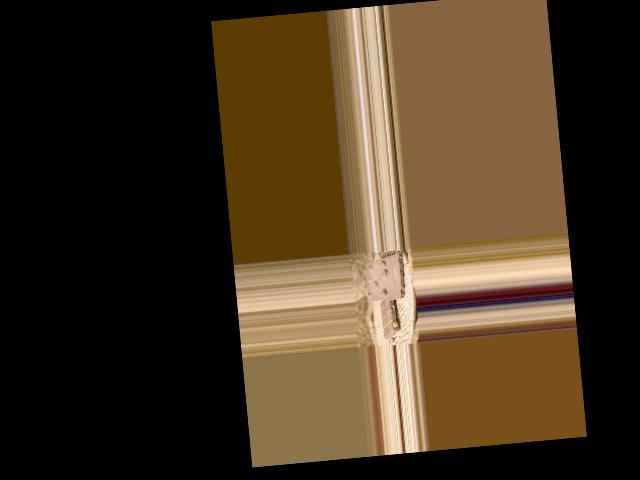chocolate: (362, 252, 406, 305)
